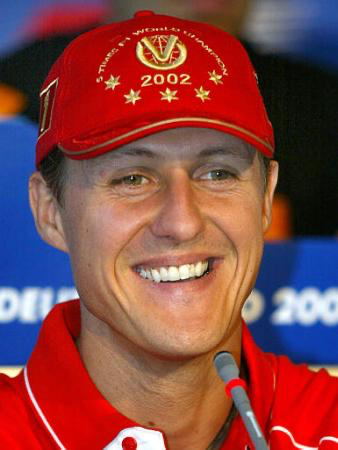Face: (66, 122, 278, 353)
